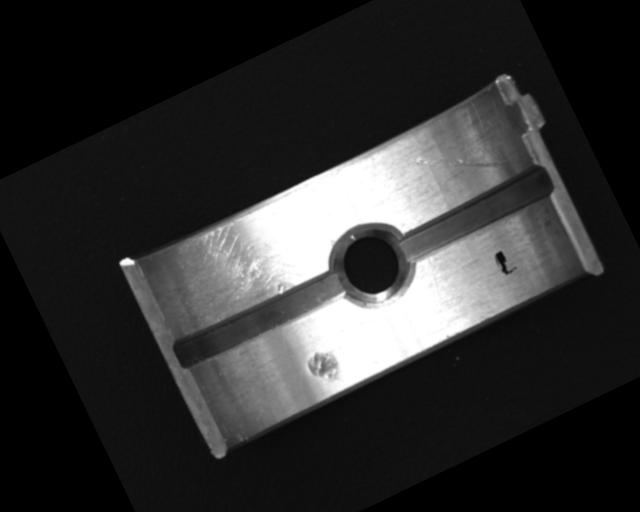blot: (490, 246, 518, 278)
bruise: (303, 345, 346, 391)
gap: (167, 261, 352, 375), (395, 164, 557, 265)
hole: (321, 209, 427, 317)
nick: (413, 122, 507, 200)
scratch: (143, 183, 335, 340)
